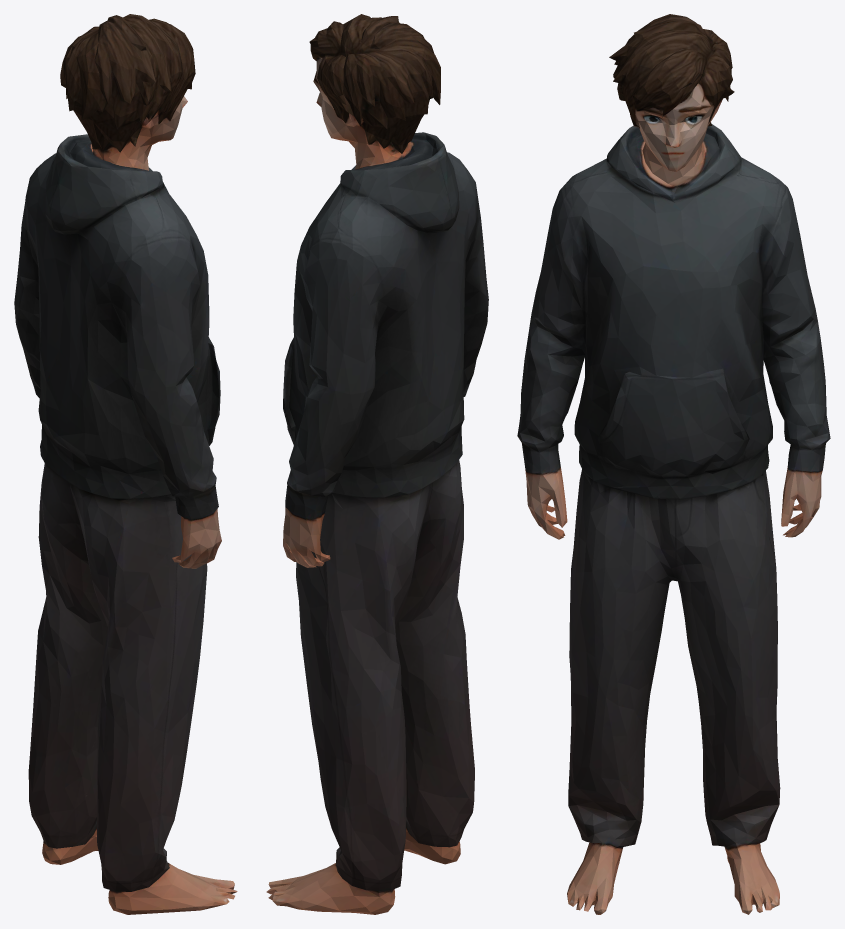
Rendered from tripo_convert_80cfebc9-5225-4433-9270-bcd9caad85d5.obj.
The picture shows the model from 3 angles, left to right: view 1: azimuth 30°, elevation 25°; view 2: azimuth 150°, elevation 25°; view 3: azimuth 270°, elevation 25°; orthographic projection.
Visible parts, largest first — view 1: tripo_node_80cfebc9-5225-4433-9270-bcd9caad85d5; view 2: tripo_node_80cfebc9-5225-4433-9270-bcd9caad85d5; view 3: tripo_node_80cfebc9-5225-4433-9270-bcd9caad85d5.
Boxes of the visible parts, x1,y1,x2,y2 form: tripo_node_80cfebc9-5225-4433-9270-bcd9caad85d5: [14, 14, 237, 914]; tripo_node_80cfebc9-5225-4433-9270-bcd9caad85d5: [266, 14, 488, 914]; tripo_node_80cfebc9-5225-4433-9270-bcd9caad85d5: [517, 14, 830, 914].
Bounding box in the file's own units: 0.1848 × 0.9962 × 0.328.
Materials: 1 (1 with a texture image).
